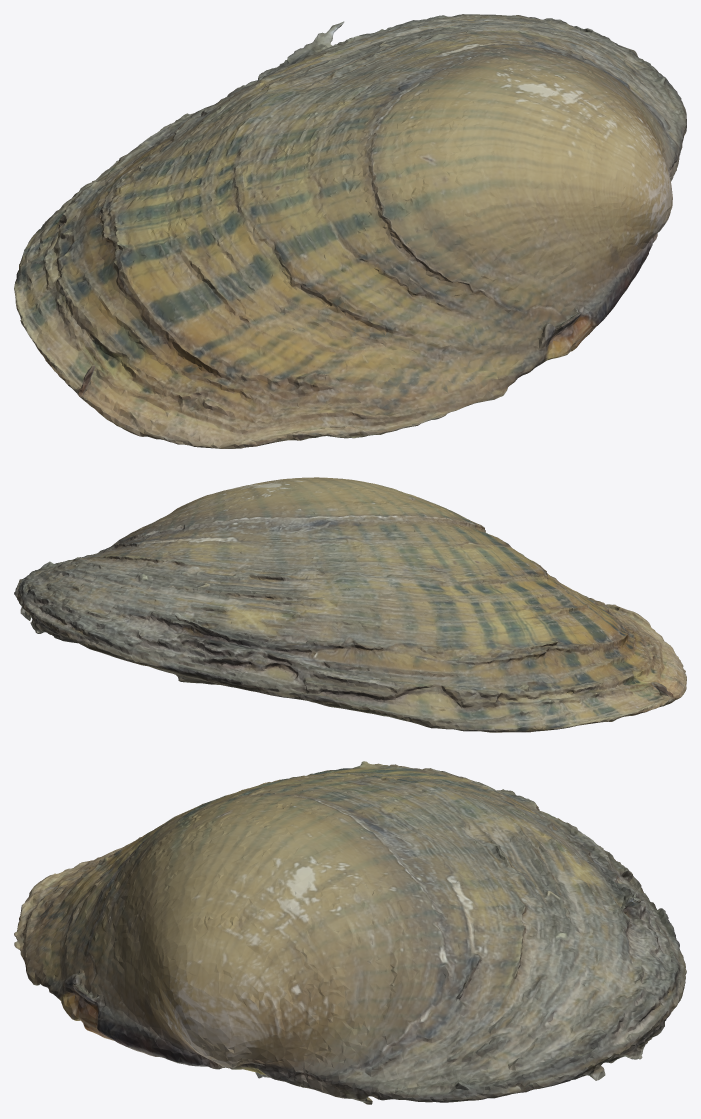
The model's file is UF_IZ_438751_object_reduced.obj.
3 views of the same model, one above another, from view 1: azimuth 30°, elevation 25°; view 2: azimuth 150°, elevation 25°; view 3: azimuth 270°, elevation 25° (orthographic). The views are drawn at different scales.
Parts seen in each view (by area): view 1: UF_IZ_438751_object_reduced; view 2: UF_IZ_438751_object_reduced; view 3: UF_IZ_438751_object_reduced.
Part boxes in pixels (left/top/right/bottom): UF_IZ_438751_object_reduced: left=14, top=14, right=686, bottom=448; UF_IZ_438751_object_reduced: left=14, top=477, right=686, bottom=732; UF_IZ_438751_object_reduced: left=14, top=761, right=686, bottom=1104.
Size of the model in its own units: 0.0505 by 0.0138 by 0.0396.
